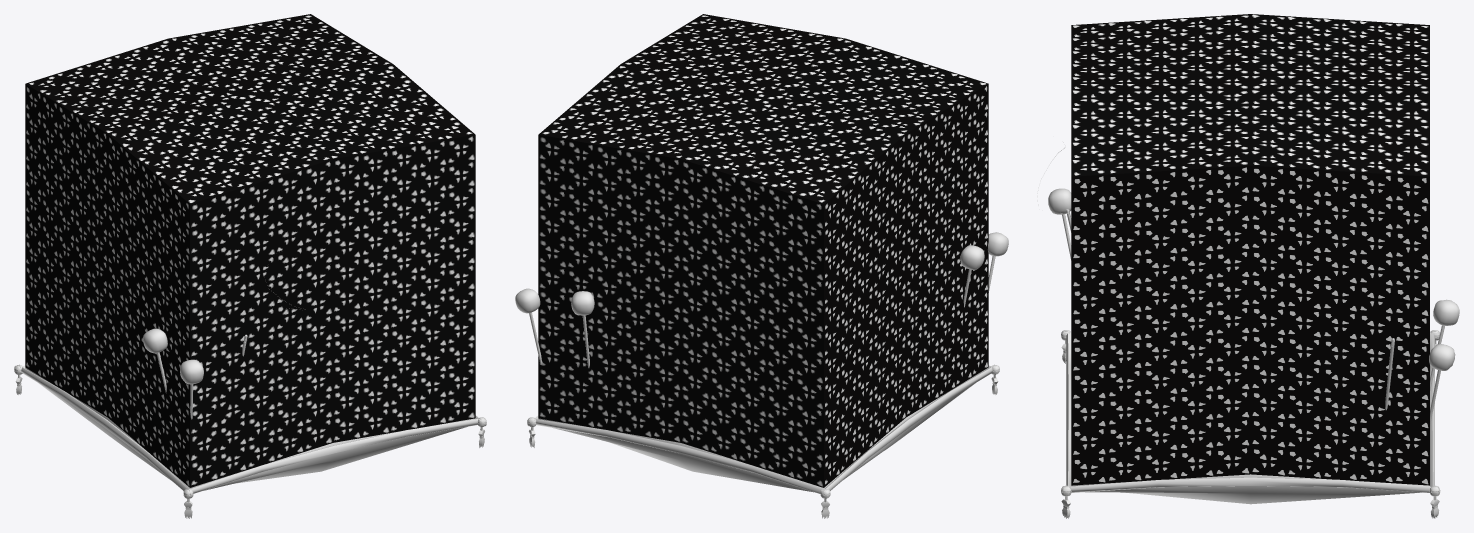
File: Level.Almofada.fbx
3 views of the same model, side by side, from view 1: azimuth 30°, elevation 25°; view 2: azimuth 150°, elevation 25°; view 3: azimuth 270°, elevation 25° (orthographic). The views are drawn at different scales.
Parts seen in each view (by area): view 1: Wall.008, Almofada; view 2: Wall.008, Almofada; view 3: Wall.008, Almofada.
Part boxes in pixels (<box>): Wall.008: <box>25,14,475,487</box>; Almofada: <box>14,285,486,518</box>; Wall.008: <box>538,14,988,487</box>; Almofada: <box>515,232,1008,518</box>; Wall.008: <box>1071,14,1429,485</box>; Almofada: <box>1037,142,1459,518</box>.
Bounding box in the file's own units: 3545 × 3685 × 3720.
